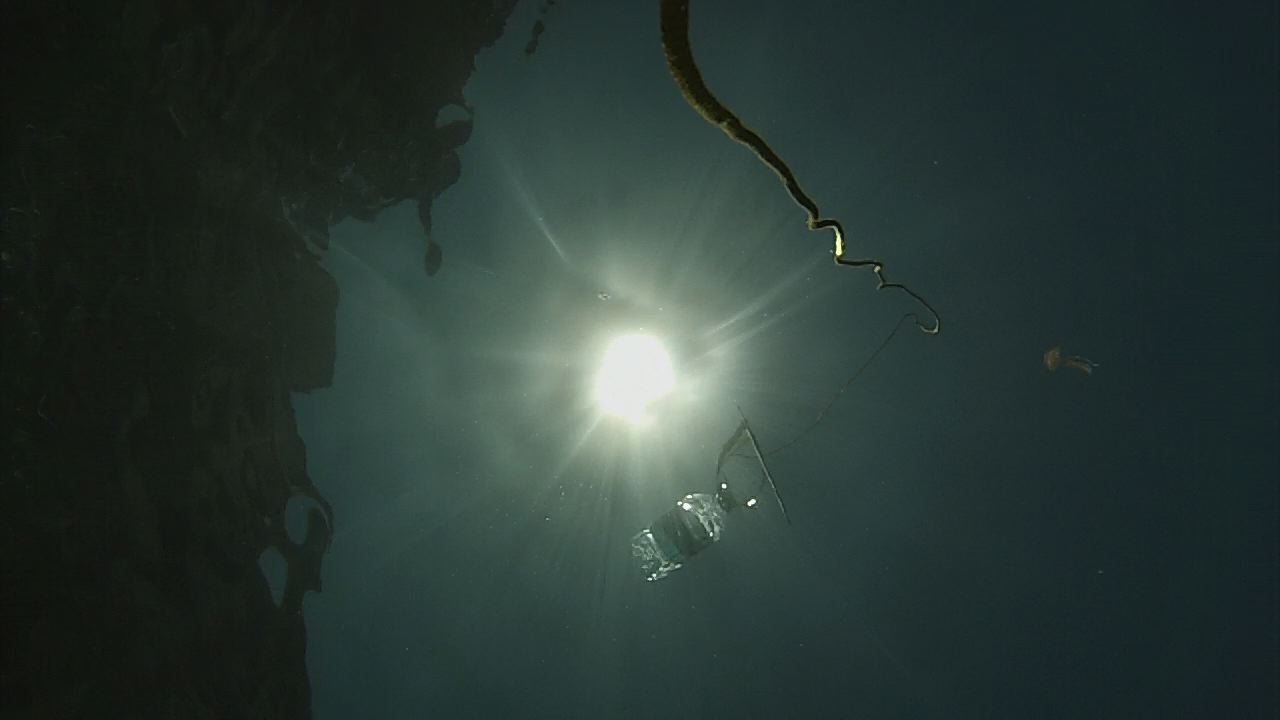pelagia: (1039, 341, 1108, 384)
